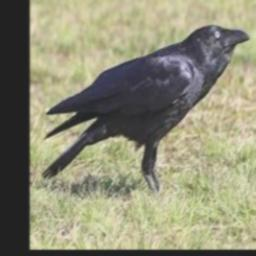Crow: (42, 24, 249, 195)
